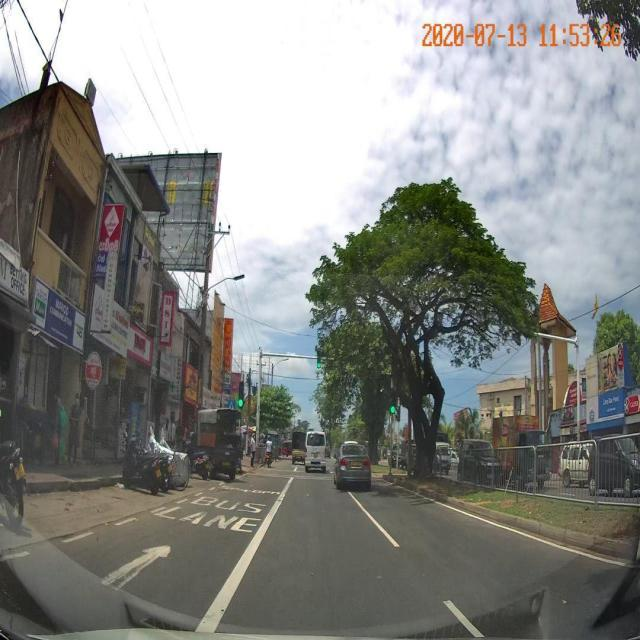BUS LANE: (150, 494, 269, 535)
Liniya 1: (381, 479, 627, 569), (194, 477, 294, 632), (346, 490, 401, 548), (441, 599, 486, 639), (61, 530, 96, 545), (112, 516, 138, 528), (149, 507, 167, 515), (176, 498, 189, 505), (193, 492, 204, 497), (208, 486, 217, 492)
Strelka vpered: (98, 543, 173, 592)
